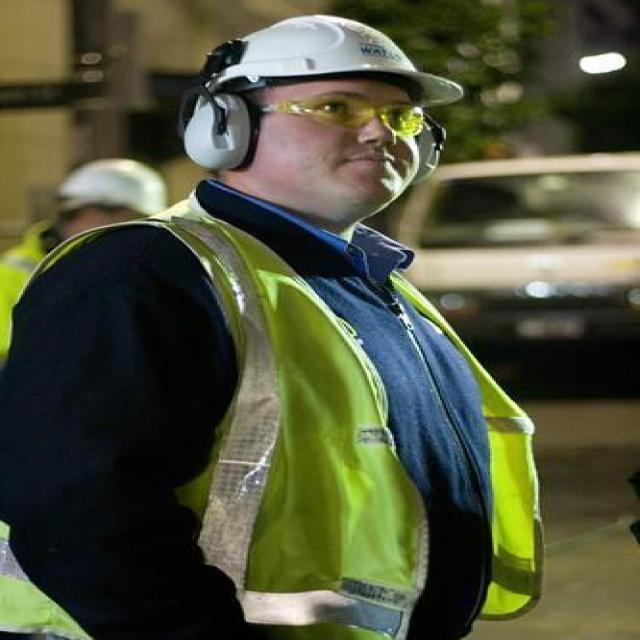Vest: (0, 202, 554, 636), (0, 212, 52, 352)
